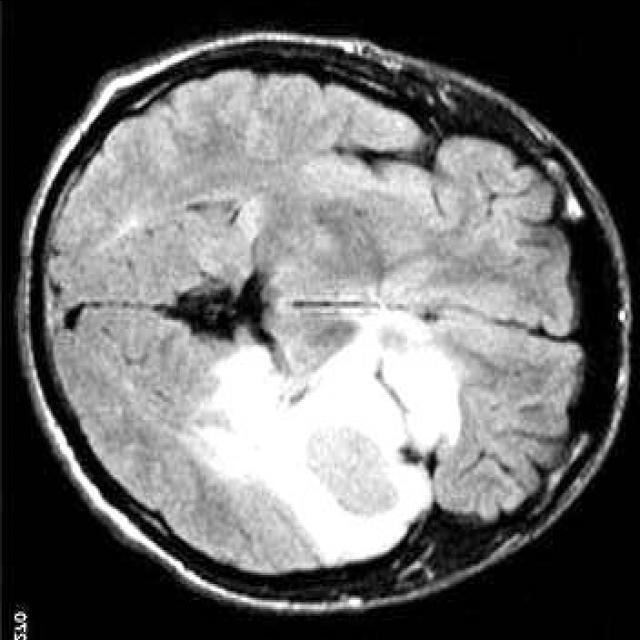tumor: (202, 323, 462, 563)
